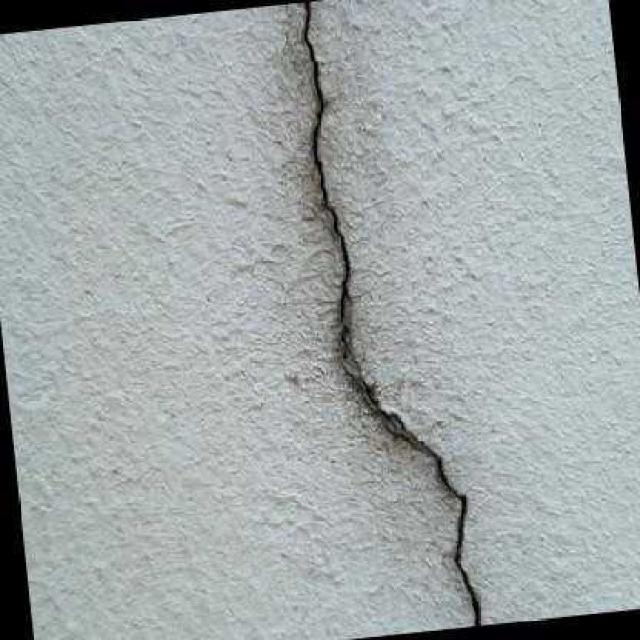D00: (362, 377, 479, 626), (302, 0, 349, 325)
